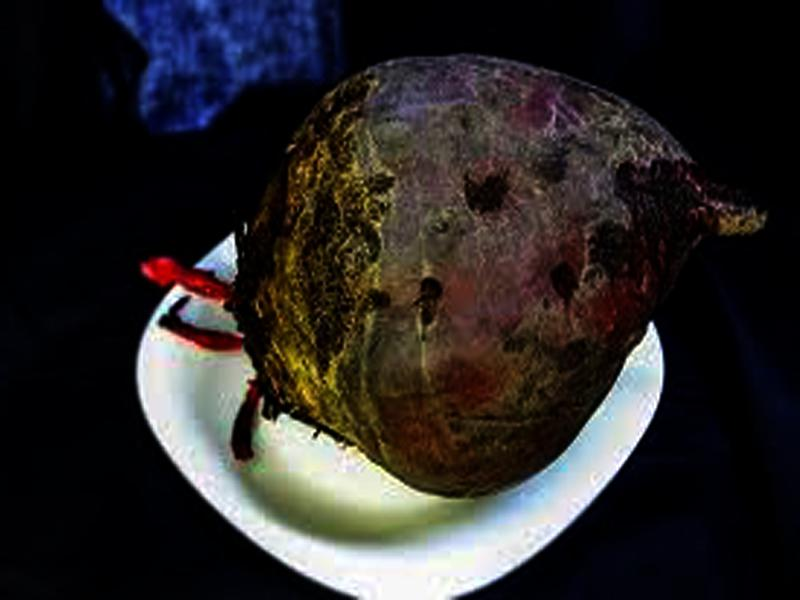Beet: (139, 59, 764, 495)
